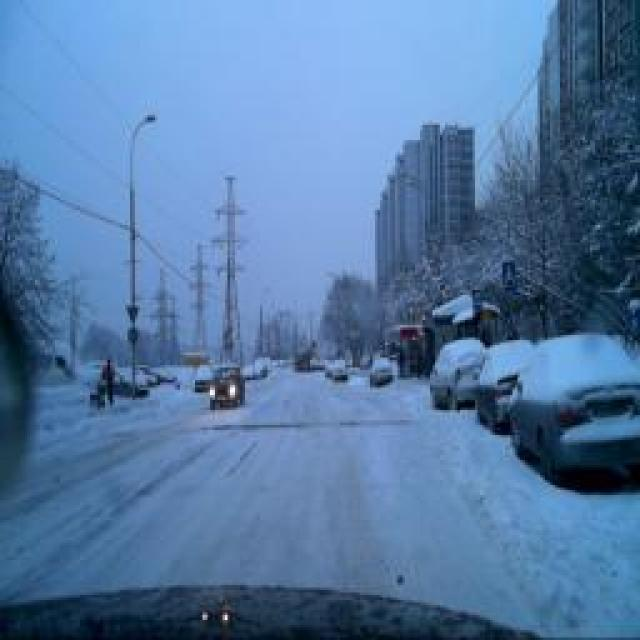sign: (502, 260, 516, 292)
